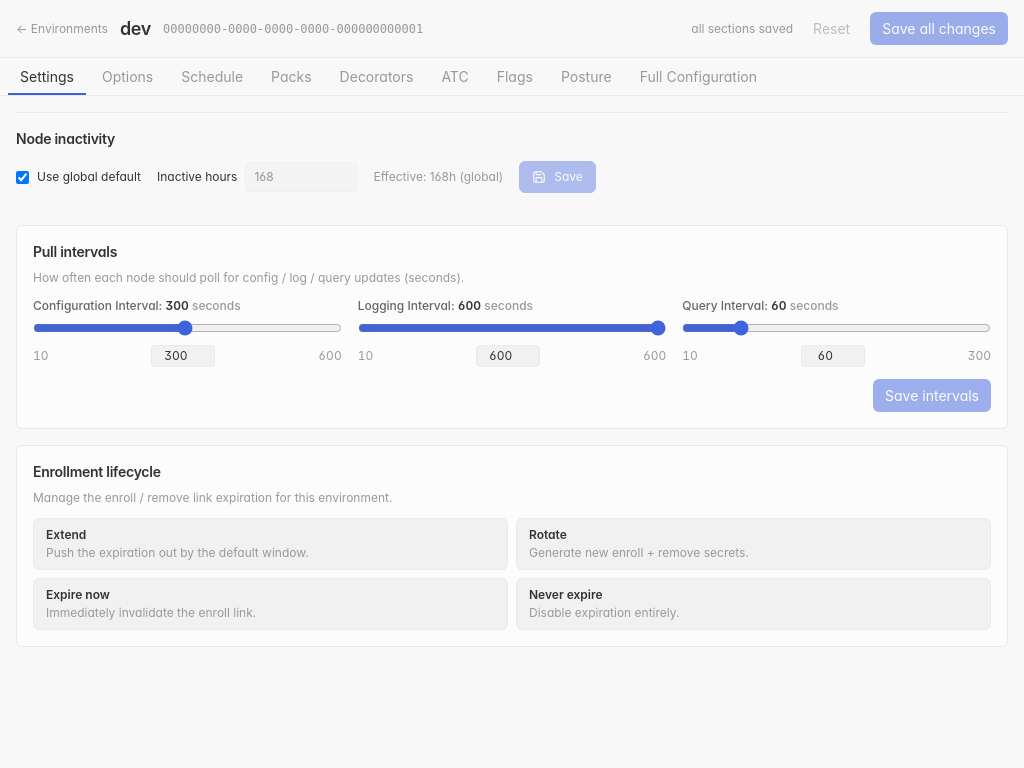
Test: EnvConfigPage › adds a posture profile from the schedule picker into the posture tab
Click the tab "Schedule" at (212, 76), box [169,58,255,95]
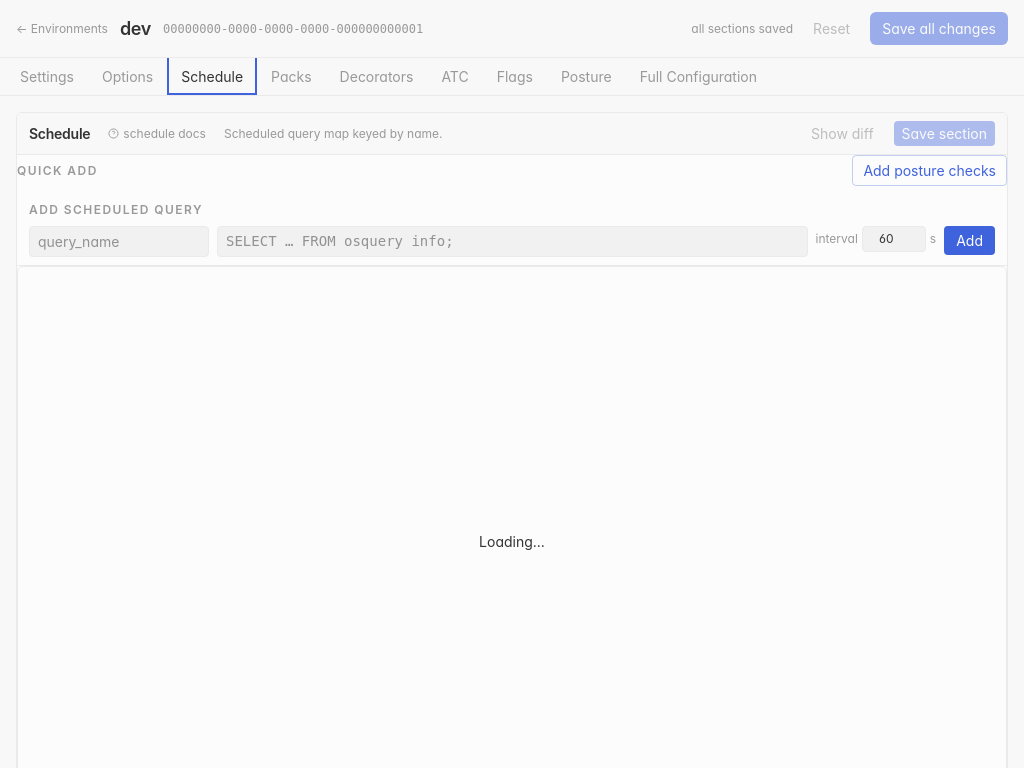
Click the button "Add posture checks" at (930, 170), box [852,155,1007,186]
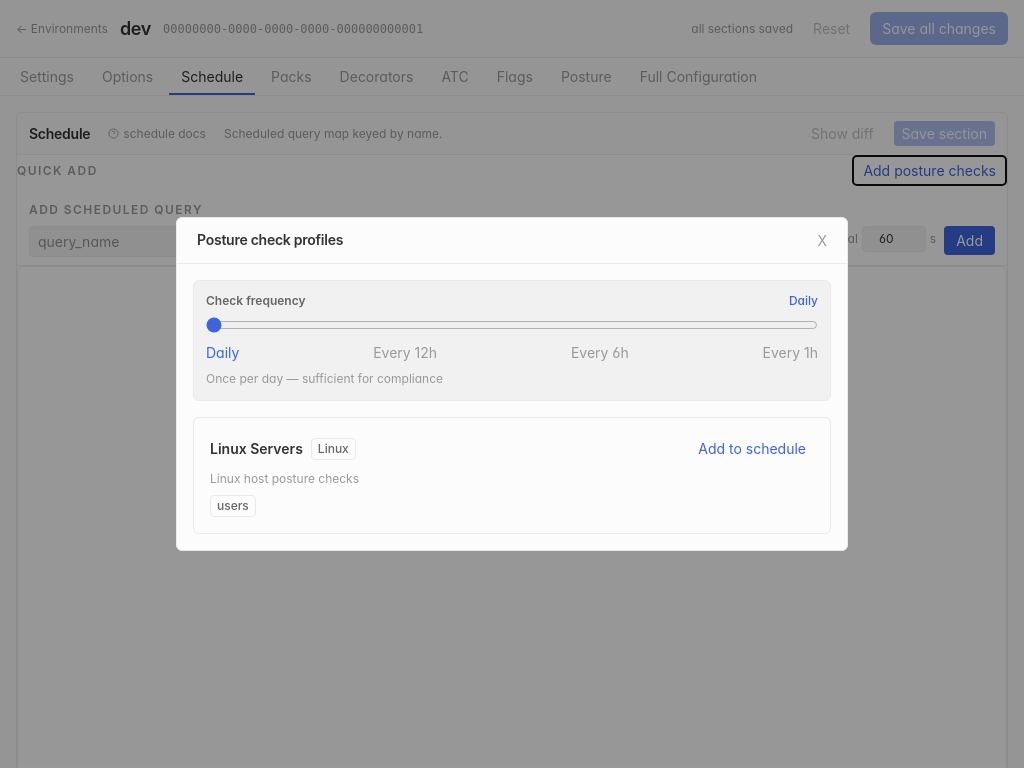
Expected: the text "Linux" is shown, [311,438,356,460]
Click the button with aria-label "Add Linux Servers to schedule" at (752, 449), box [690,434,814,463]
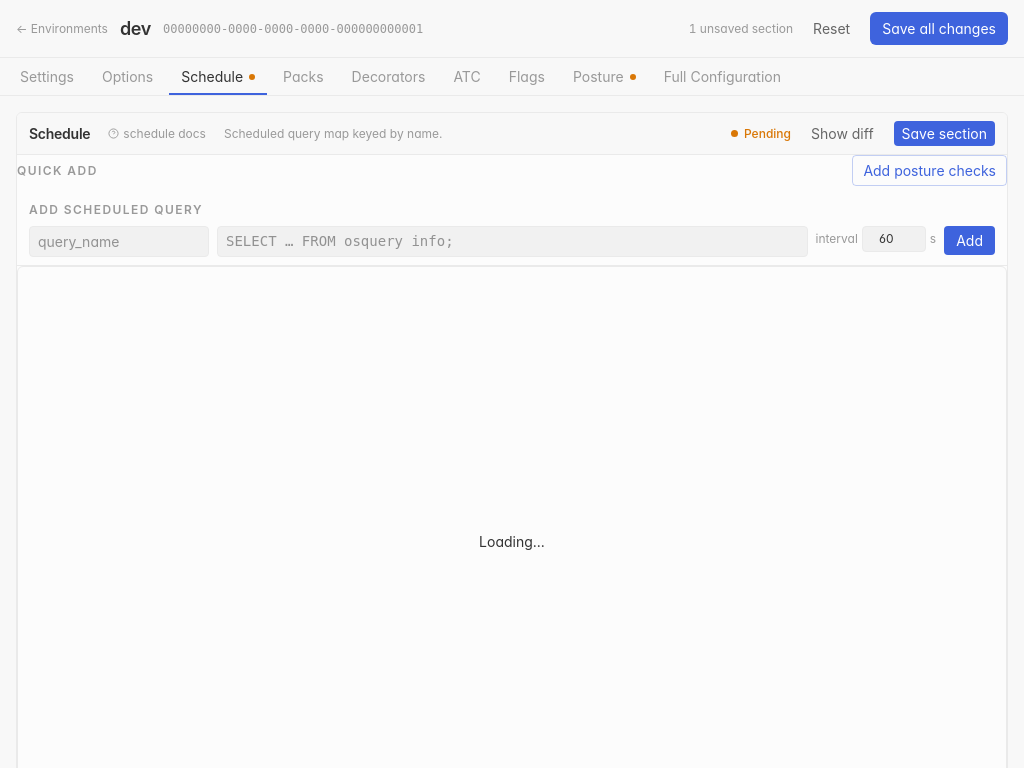
Click the tab "Posture" at (604, 76), box [561,58,648,95]
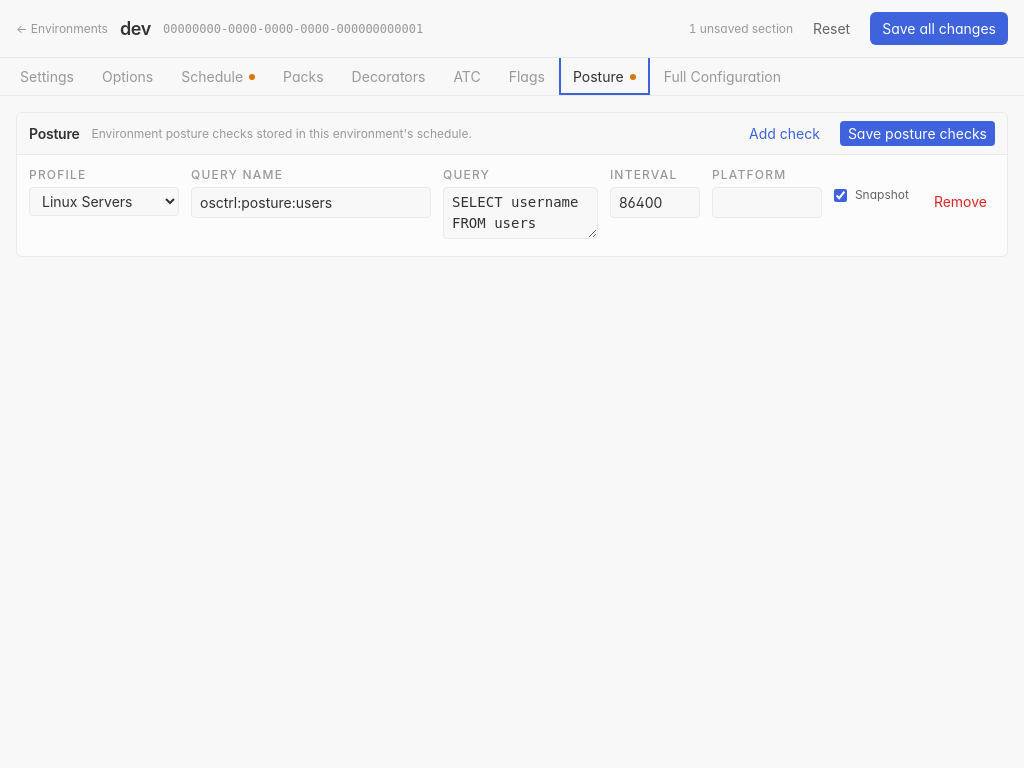
Expected: the field showing "osctrl:posture:users" is shown, [191,187,431,218]
Expected: the dropdown labelled "Profile" shows "Linux Servers", [29,187,179,216]
